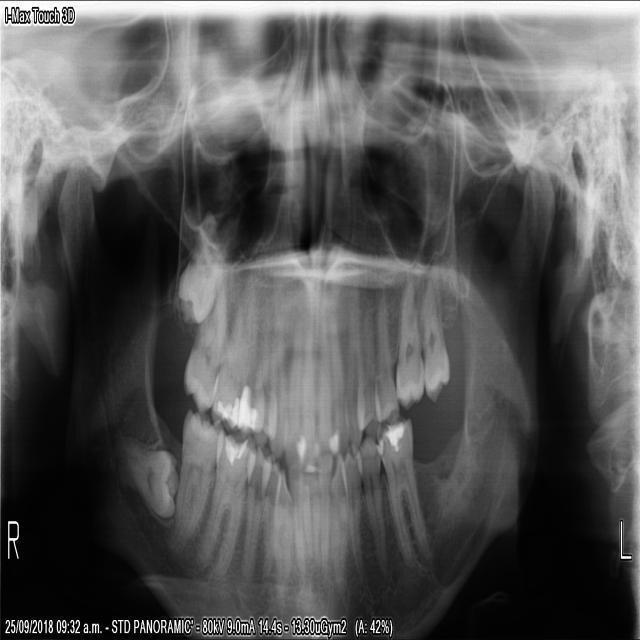LCD: (345, 446, 364, 590)
LCU: (342, 312, 362, 449)
LID: (328, 449, 349, 597), (315, 457, 333, 593)
LIU: (316, 297, 333, 460), (331, 316, 348, 458)
LMU: (421, 263, 451, 407), (395, 271, 425, 410)
LPMD: (380, 415, 433, 582), (360, 432, 390, 579)
LPMU: (375, 304, 401, 426), (357, 302, 376, 429)
RCD: (261, 455, 279, 572)
RCU: (268, 308, 287, 462)
RID: (269, 465, 293, 597), (291, 469, 316, 583)
RIU: (299, 279, 316, 476), (284, 294, 302, 469)
RMD: (110, 433, 177, 524)
RMU: (178, 265, 236, 412), (171, 246, 222, 330)
RPMD: (164, 404, 222, 565), (197, 427, 255, 585), (238, 447, 269, 583)
RPMU: (209, 277, 261, 429), (238, 290, 270, 440)
